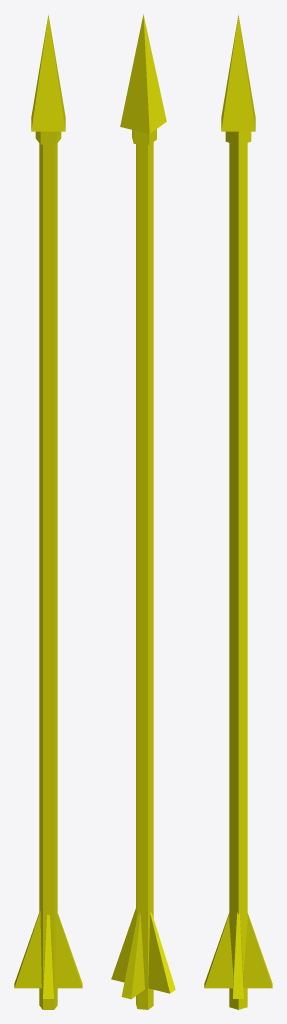
The model's file is _arrow_c_8.glb.
The picture shows the model from 3 angles, left to right: view 1: azimuth 90°, elevation 25°; view 2: azimuth 150°, elevation 25°; view 3: azimuth 270°, elevation 25°; orthographic projection.
Visible parts, largest first — view 1: arrow_c_8; view 2: arrow_c_8; view 3: arrow_c_8.
Part boxes in pixels (box(x1,y1,x2,y2)): arrow_c_8: box(14, 14, 82, 1009); arrow_c_8: box(111, 14, 175, 1009); arrow_c_8: box(204, 14, 272, 1009).
Bounding box in the file's own units: 1243 × 19971 × 1243.
